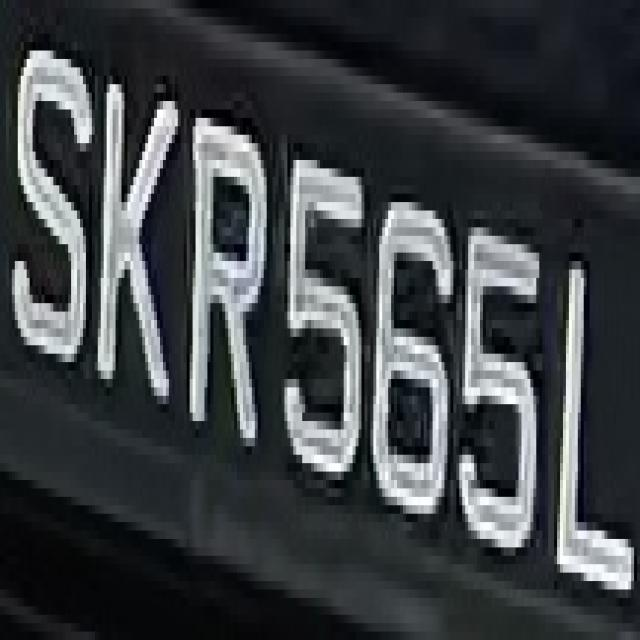5: (462, 194, 548, 564), (282, 127, 364, 506)
6: (374, 177, 456, 556)
K: (89, 34, 172, 412)
L: (551, 202, 637, 598)
R: (175, 84, 272, 472)
S: (6, 34, 89, 379)
